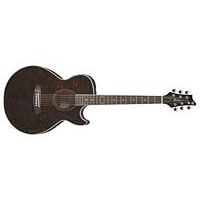guitar: (3, 65, 197, 136)
